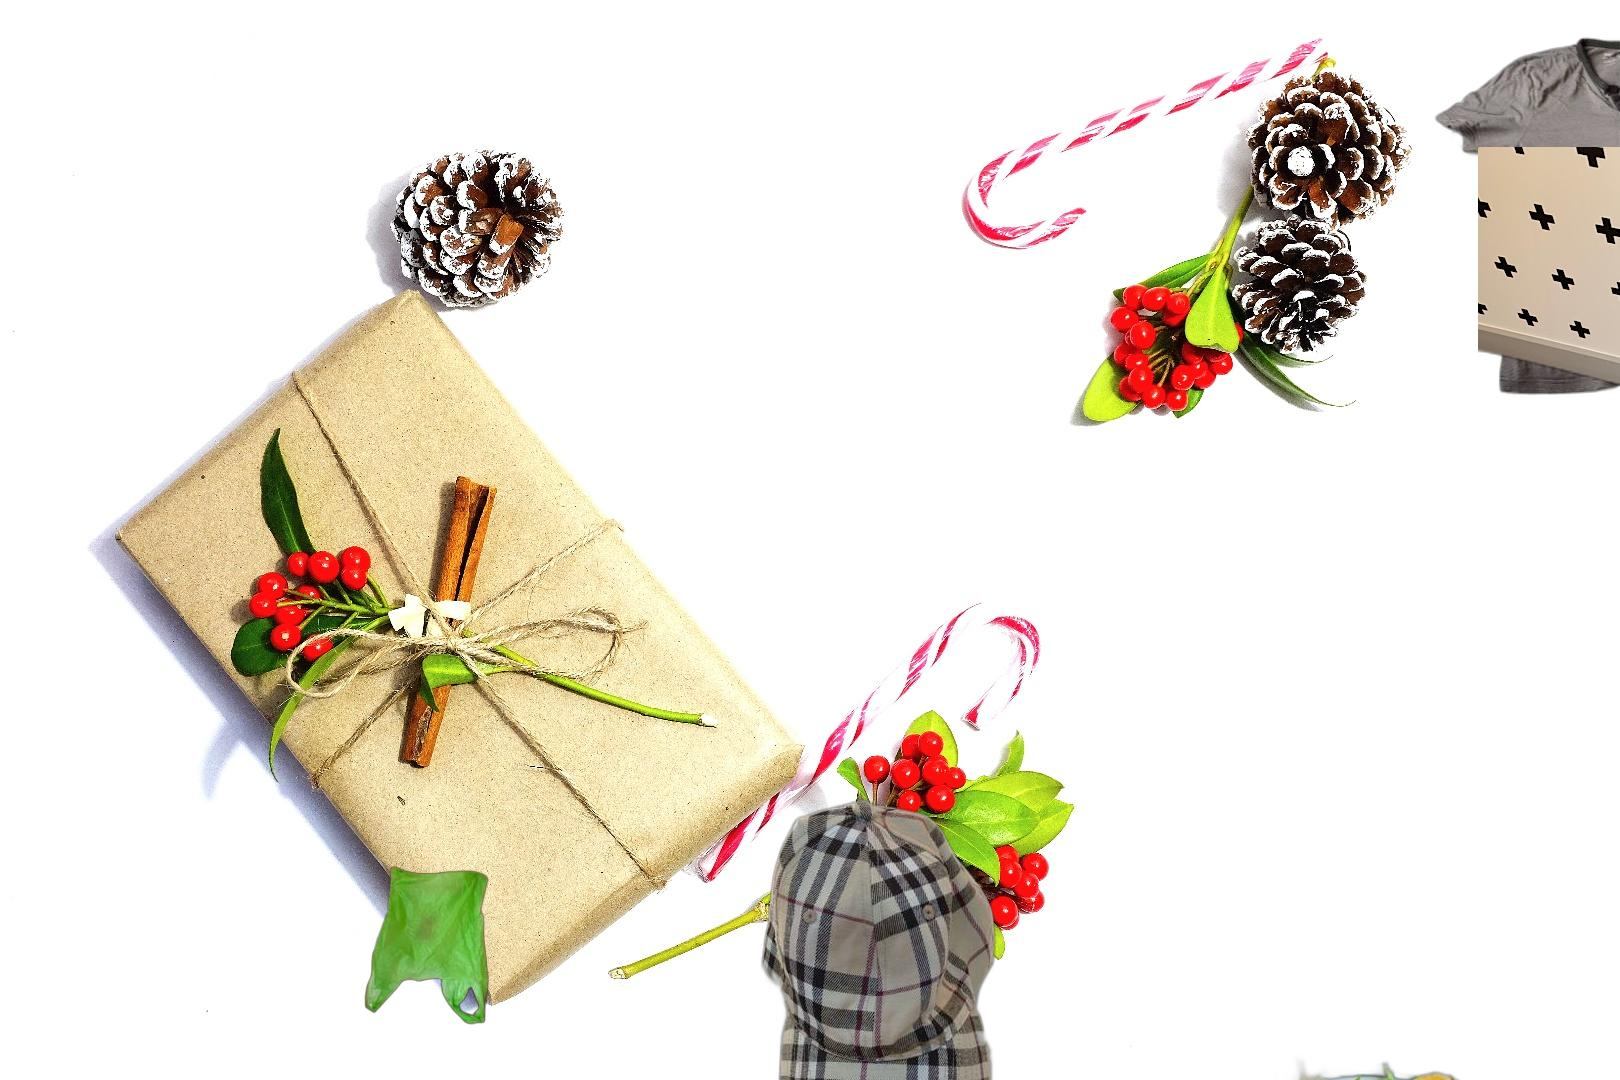biological: (1199, 1052, 1563, 1080)
clothes: (1432, 34, 1620, 398), (759, 796, 999, 1080)
plastic-bag: (350, 859, 491, 1026)
plastic-bottles: (1478, 147, 1620, 711)
